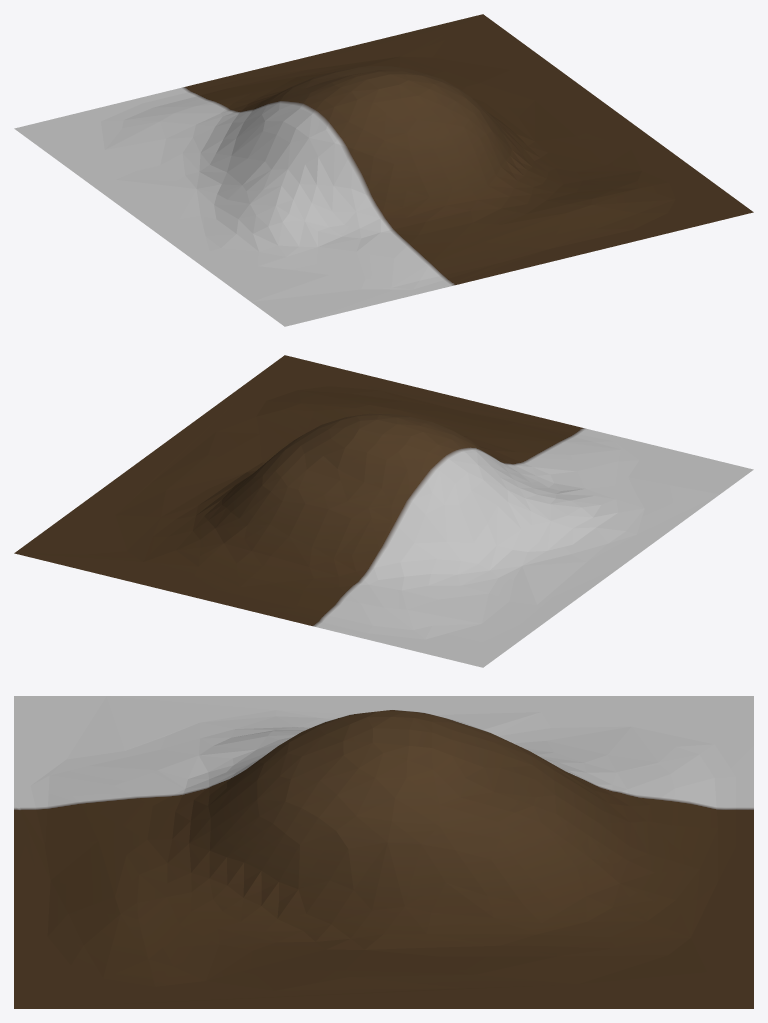
The model's file is Terrain_04.fbx.
The picture shows the model from 3 angles, top to bottom: view 1: azimuth 30°, elevation 25°; view 2: azimuth 150°, elevation 25°; view 3: azimuth 270°, elevation 25°; orthographic projection. The views are drawn at different scales.
Parts seen in each view (by area): view 1: Terrain_04; view 2: Terrain_04; view 3: Terrain_04.
Part boxes in pixels (x1,y1,x2,y2): Terrain_04: [14, 14, 753, 326]; Terrain_04: [14, 355, 753, 667]; Terrain_04: [14, 696, 753, 1008].
Bounding box in the file's own units: 128 × 22.93 × 128.
